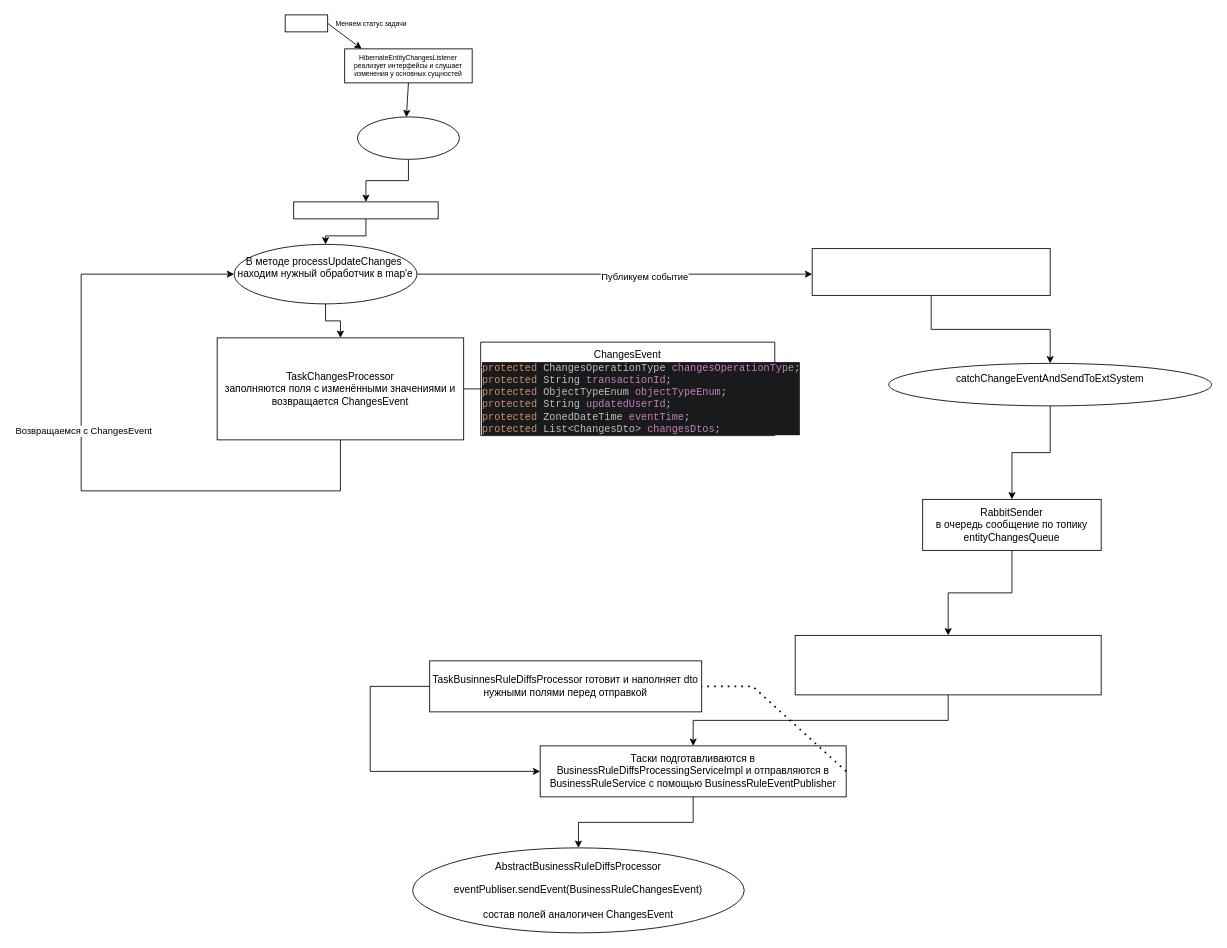
This 1227x948 diagram has some shape labels left out. Here are the shapes that lost their labels. From the top down, the centre of each, then its label:
(306,23): ui/api
(408,137): onPostUpdate
(365,210): changesProcessingService
(930,271): ChangesEventExtSystemsPublisher слушает его и ассинхронно обрабатывает
(947,665): ChangesListener слушает топик и подготавливает нужные таски
